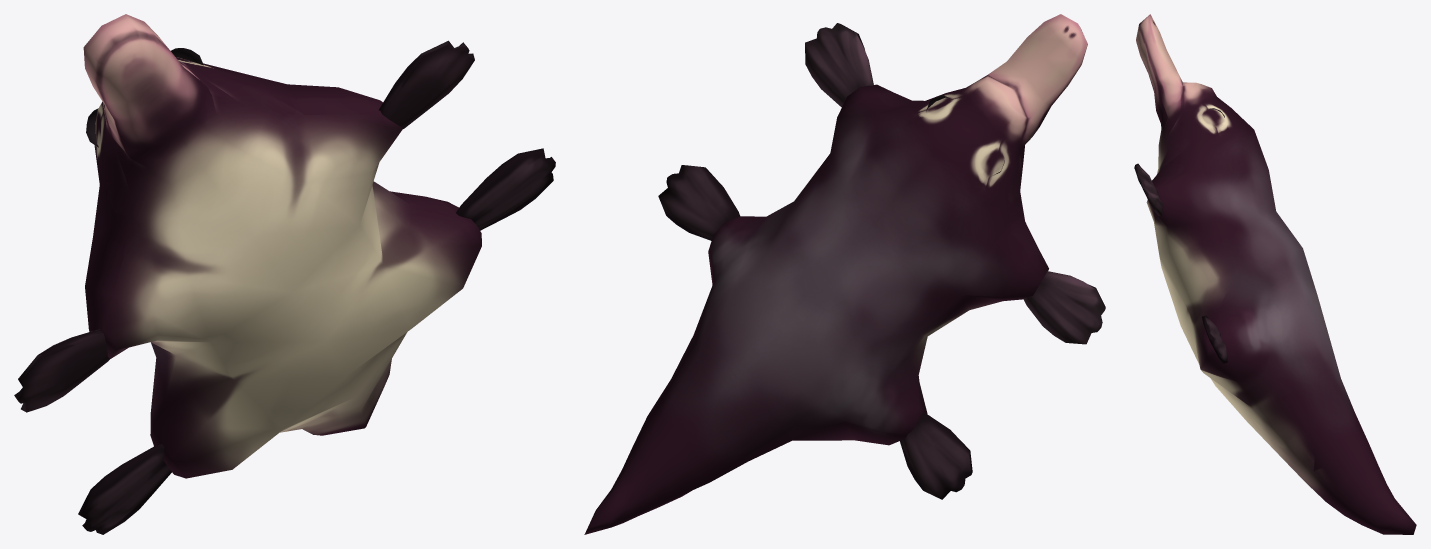
Rendered from platypus.glb.
The picture shows the model from 3 angles, left to right: view 1: azimuth 30°, elevation 25°; view 2: azimuth 150°, elevation 25°; view 3: azimuth 270°, elevation 25°; orthographic projection. The views are drawn at different scales.
Parts seen in each view (by area): view 1: polySurface3; view 2: polySurface3; view 3: polySurface3.
Boxes of the visible parts, x1=… form: polySurface3: x1=14, y1=14, x2=555, y2=534; polySurface3: x1=584, y1=14, x2=1105, y2=534; polySurface3: x1=1134, y1=14, x2=1416, y2=534.
Size of the model in its own units: 0.966 by 1.05 by 0.6856.
3 materials, 3 textured.
